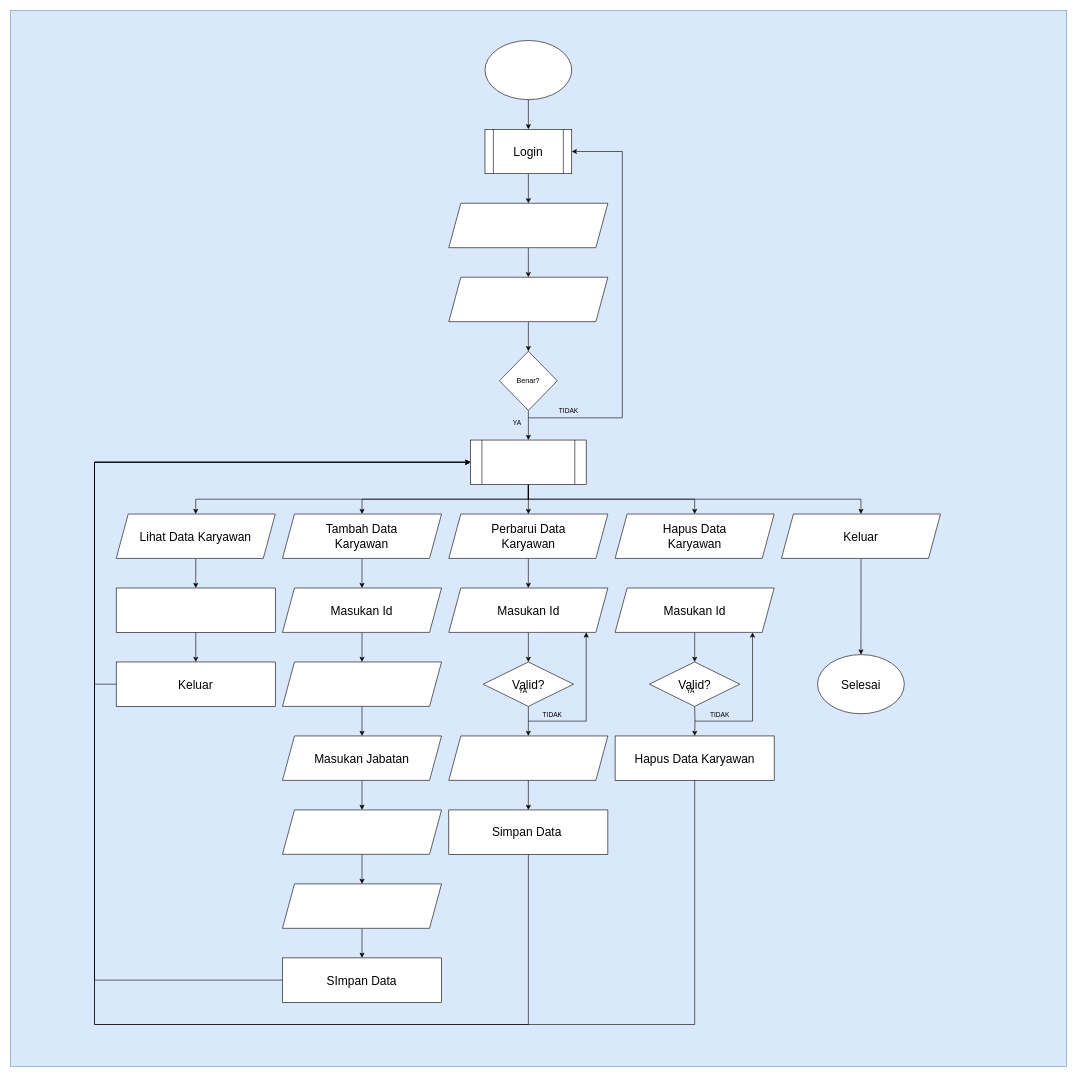
This 1077x1077 diagram has some shape labels left out. Each missing label, with the box of its shape:
Edit Data Karyawan: (448, 735, 608, 780)
Masukan Gaji: (282, 883, 442, 928)
Masukan Nama: (282, 661, 442, 706)
Masukan Password: (448, 277, 608, 322)
Masukan Posisi: (282, 809, 442, 854)
Masukan Username: (448, 203, 608, 248)
Menampilkan Data Karyawan: (116, 587, 275, 632)
Menu Utama: (470, 439, 586, 484)
MULAI: (484, 40, 572, 100)
